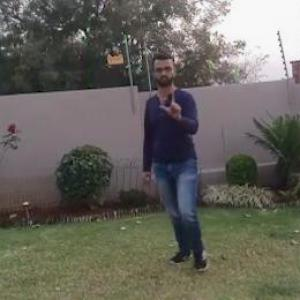land_hand: (157, 86, 189, 126)
